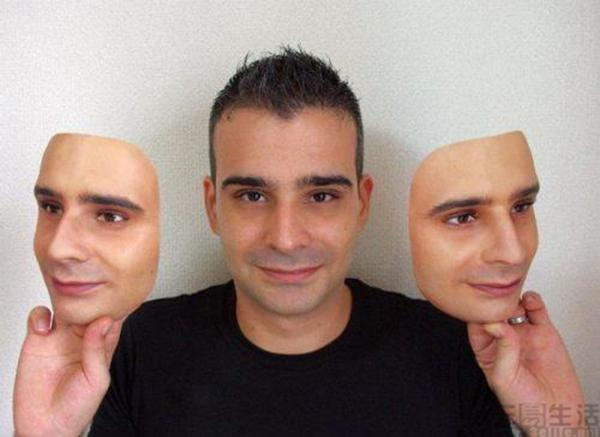nomask: (212, 90, 362, 310)
